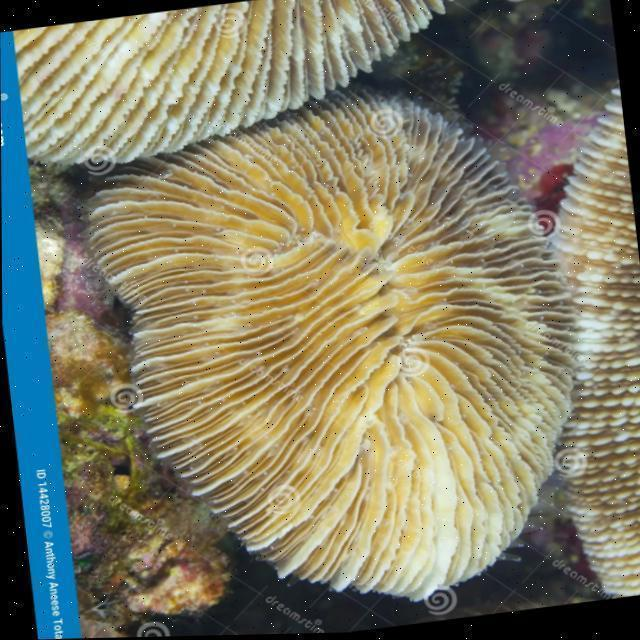Healthy Coral: (97, 57, 605, 631), (23, 0, 492, 181), (536, 89, 640, 604)
